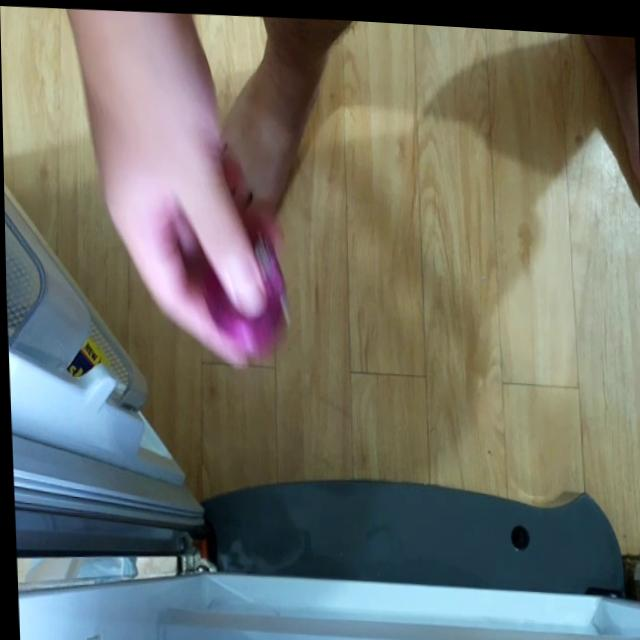onion: (199, 219, 295, 351)
